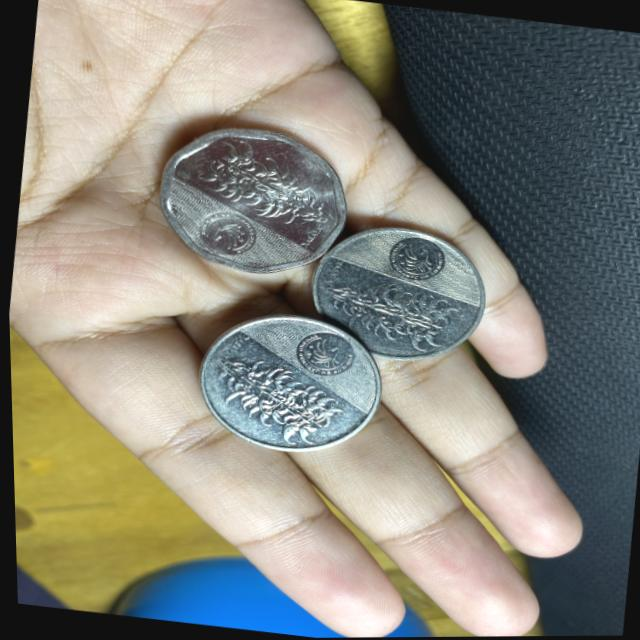5_New_Back: (163, 136, 333, 233), (301, 270, 467, 352), (216, 358, 330, 444)
